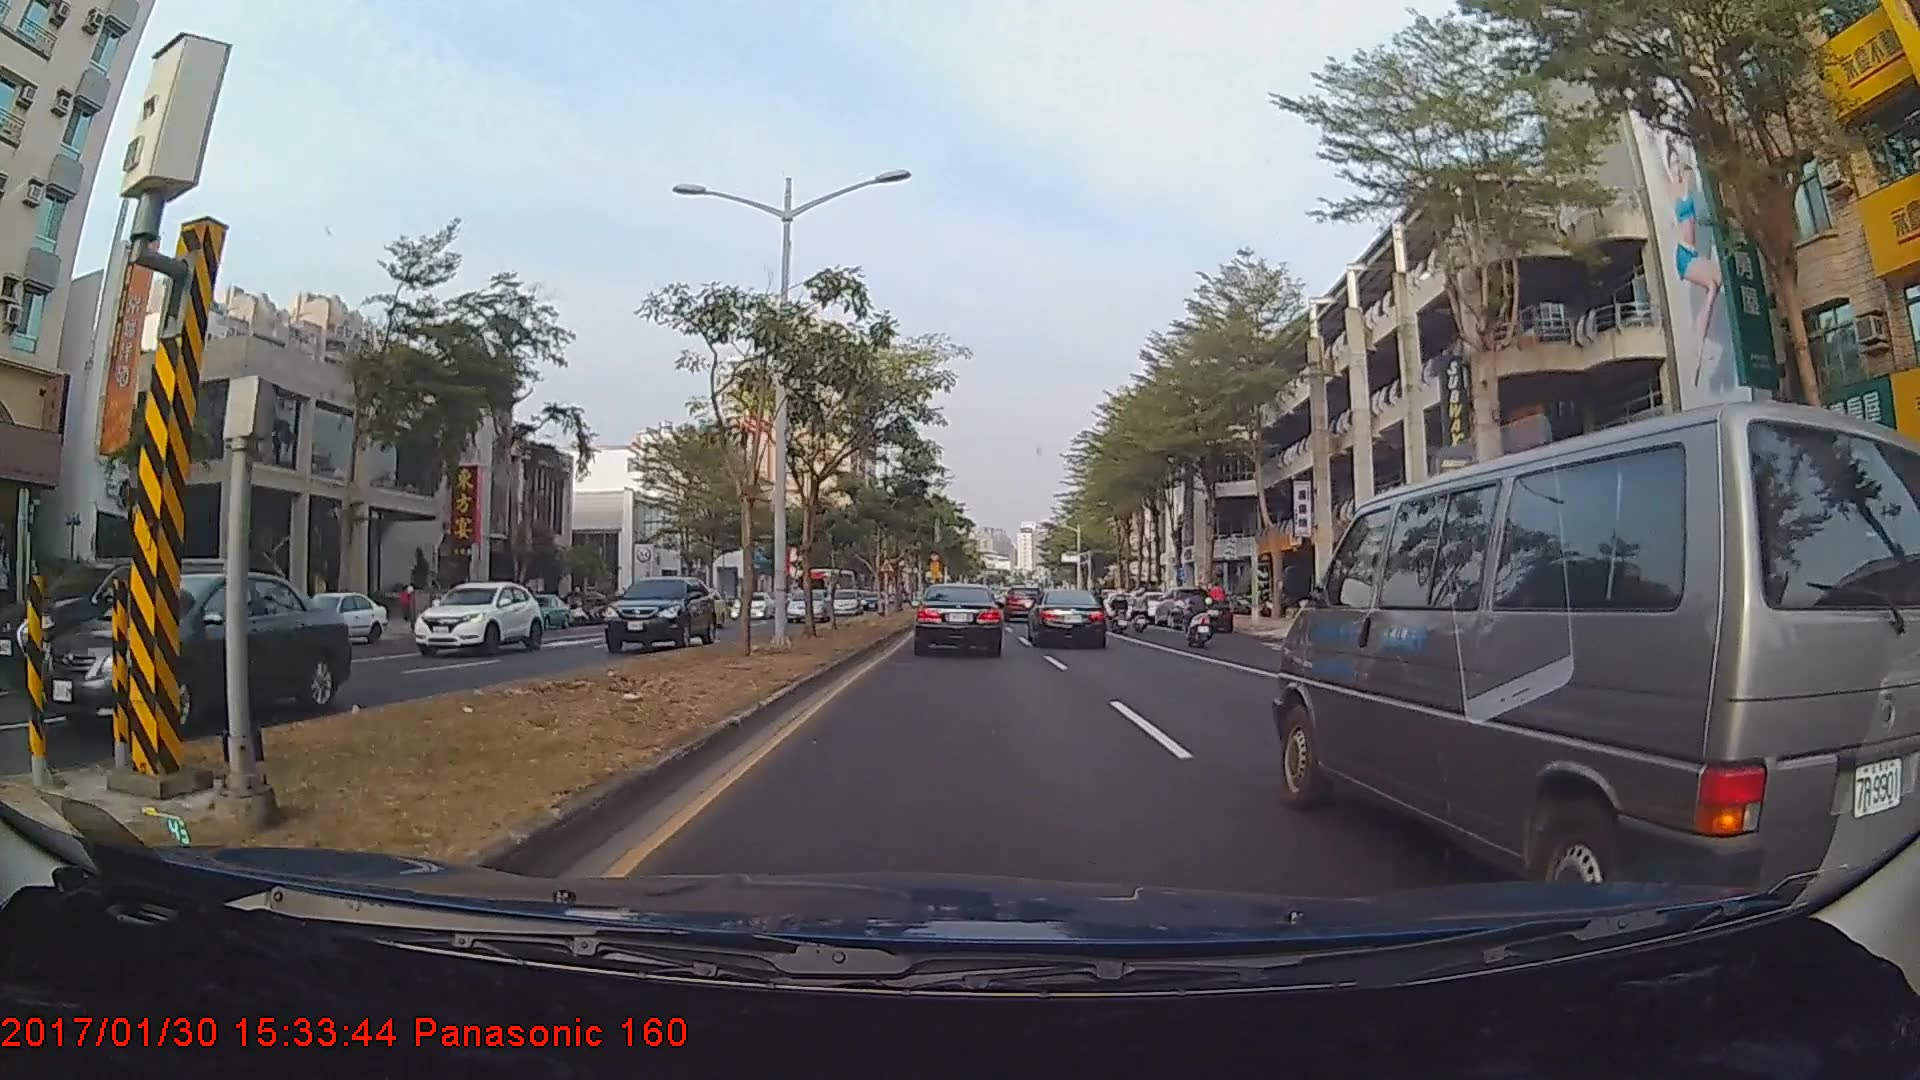rider: (1179, 582, 1217, 651), (1128, 588, 1158, 638)
vehicle: (1268, 409, 1900, 909), (40, 571, 353, 742), (411, 579, 543, 657), (601, 575, 715, 655), (914, 580, 1004, 656), (1029, 587, 1108, 649), (1165, 596, 1233, 635), (799, 566, 855, 609), (787, 590, 833, 627), (728, 592, 775, 621), (1004, 584, 1042, 619), (827, 587, 865, 617)
